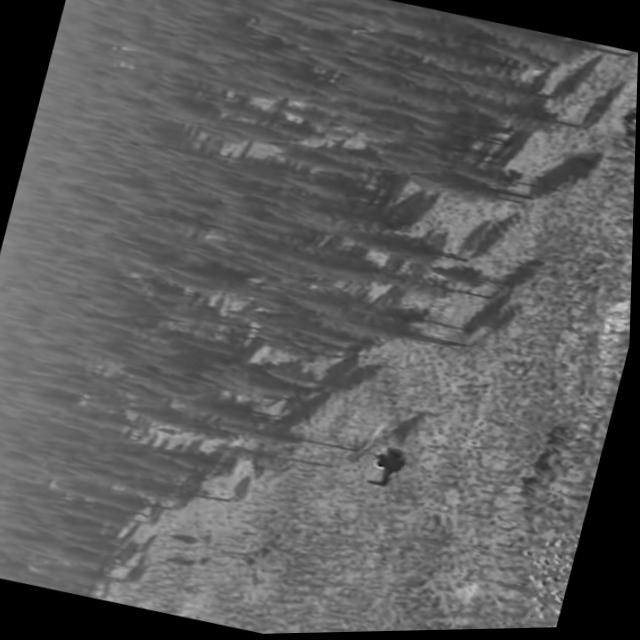helikopter: (323, 411, 442, 522)
